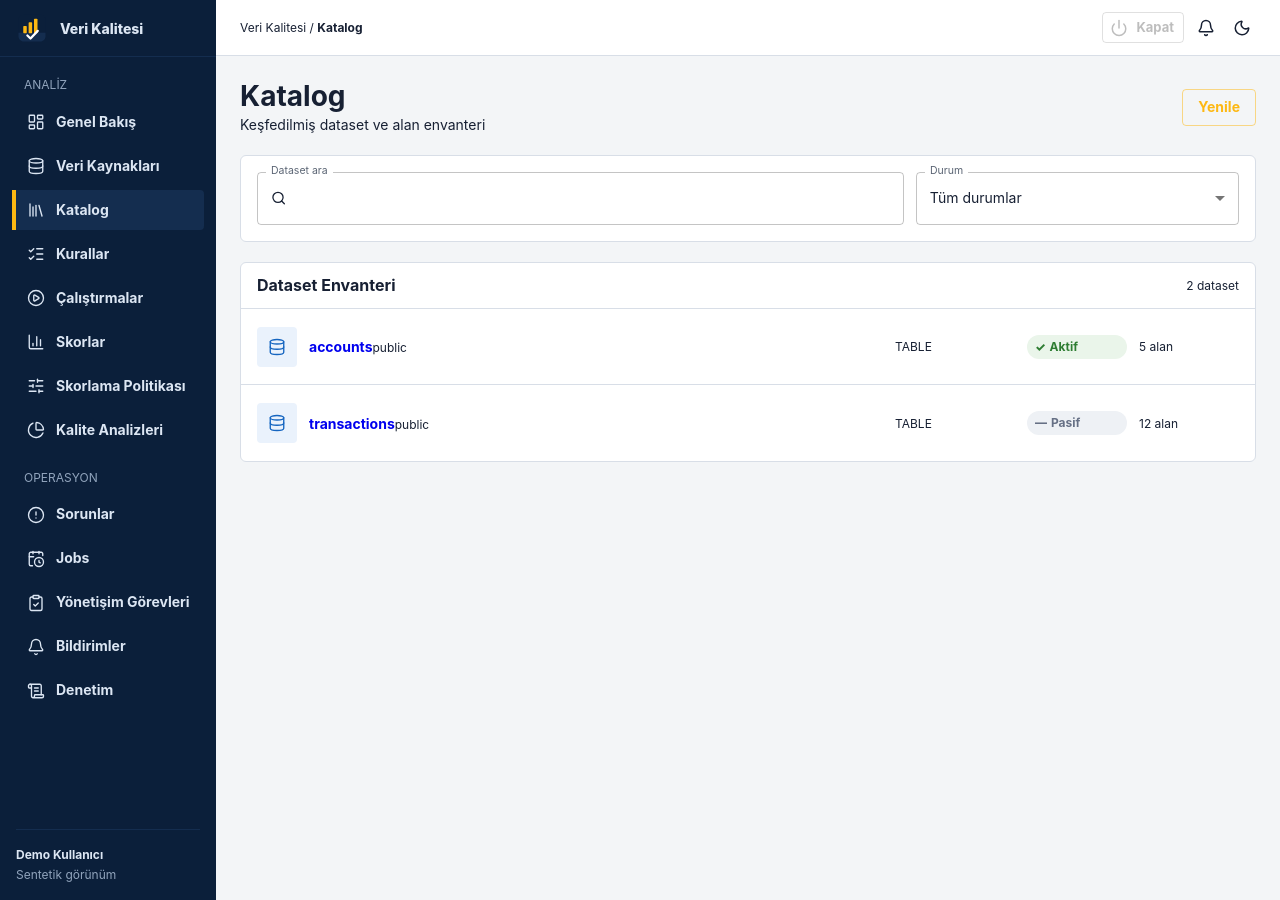
Test: CatalogPage › filters datasets by name
Type "accounts" into the field labelled "Dataset ara". click: [595, 198]
box: [286,172,904,225]
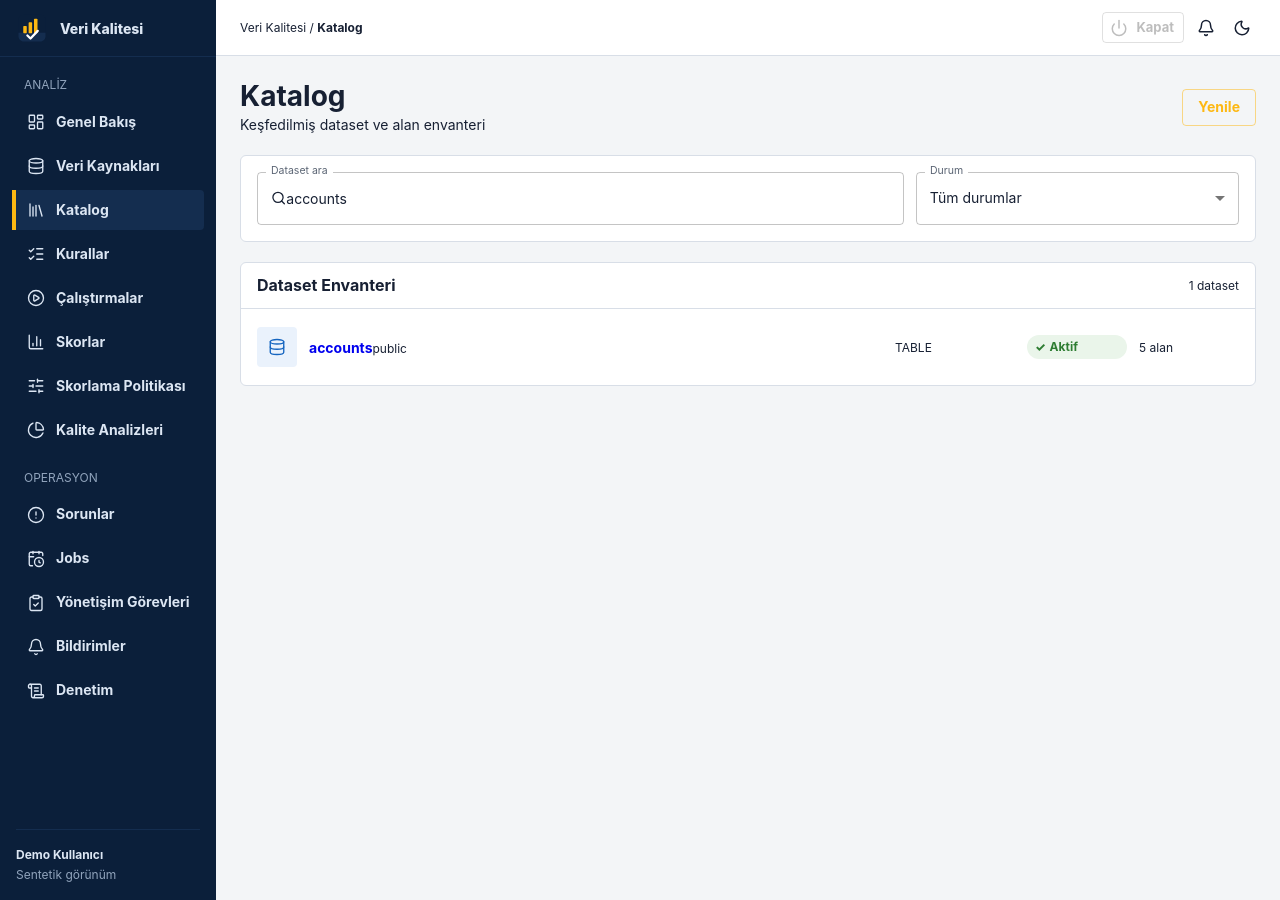
Check: the text "1 dataset" is shown, box [1189,277,1239,294]
